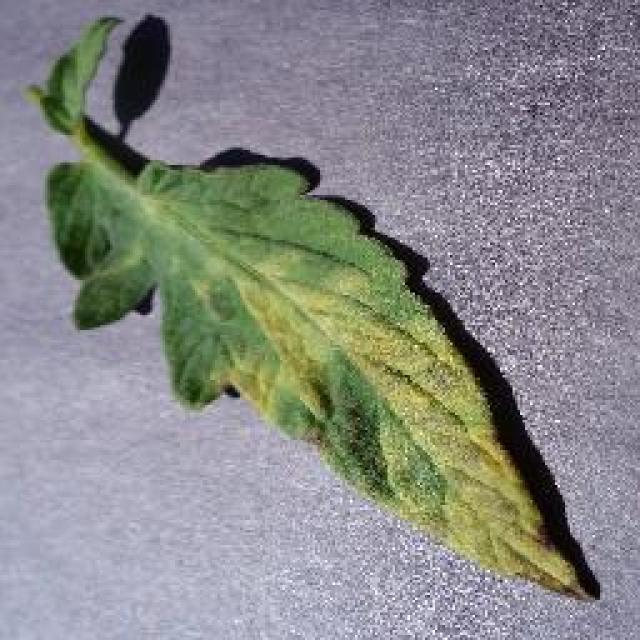Tomato___Leaf_Mold: (28, 18, 580, 592)
